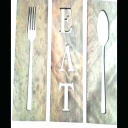Fork: (25, 3, 41, 116)
